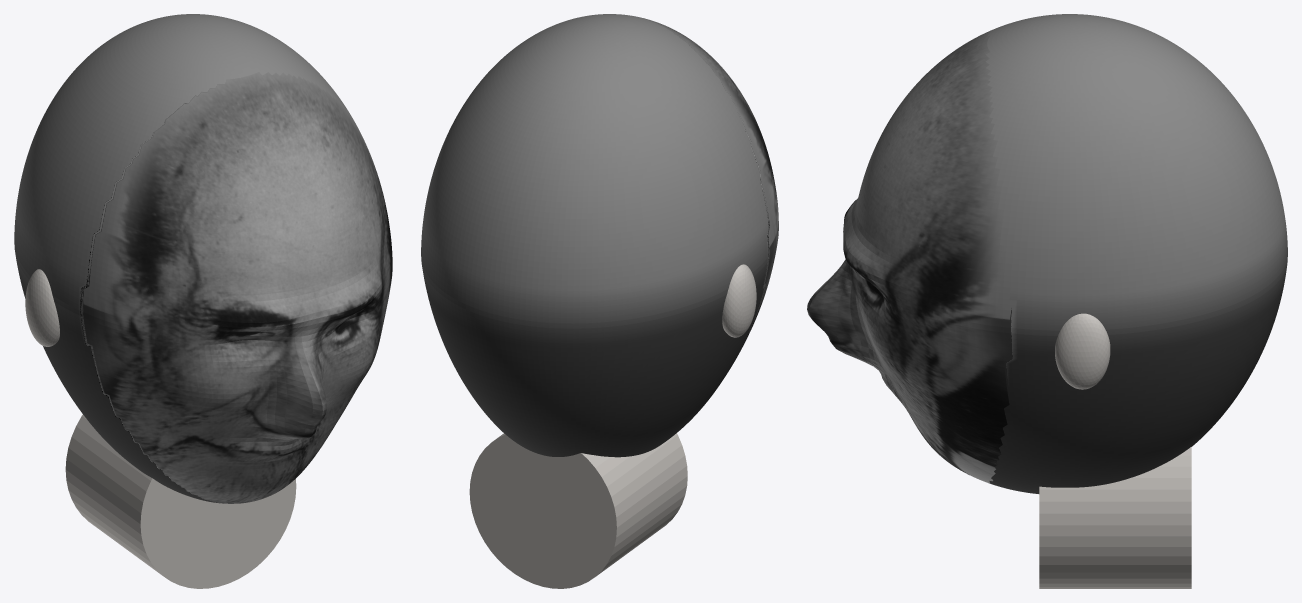
The picture shows the model from 3 angles, left to right: view 1: azimuth 30°, elevation 25°; view 2: azimuth 150°, elevation 25°; view 3: azimuth 270°, elevation 25°; orthographic projection. The views are drawn at different scales.
Parts seen in each view (by area): view 1: head, neck, ear_l; view 2: head, neck, ear_l; view 3: head, neck, ear_r.
Boxes of the visible parts, bbox=[...] form: head: bbox=[14, 14, 392, 503]; neck: bbox=[65, 414, 296, 588]; ear_l: bbox=[25, 269, 59, 346]; head: bbox=[421, 14, 778, 457]; neck: bbox=[469, 433, 687, 588]; ear_l: bbox=[722, 264, 756, 337]; head: bbox=[807, 14, 1287, 493]; neck: bbox=[1039, 447, 1191, 588]; ear_r: bbox=[1055, 313, 1110, 389].
Bounding box in the file's own units: 1.54 × 2.41 × 1.9.
1 material, 1 textured.
